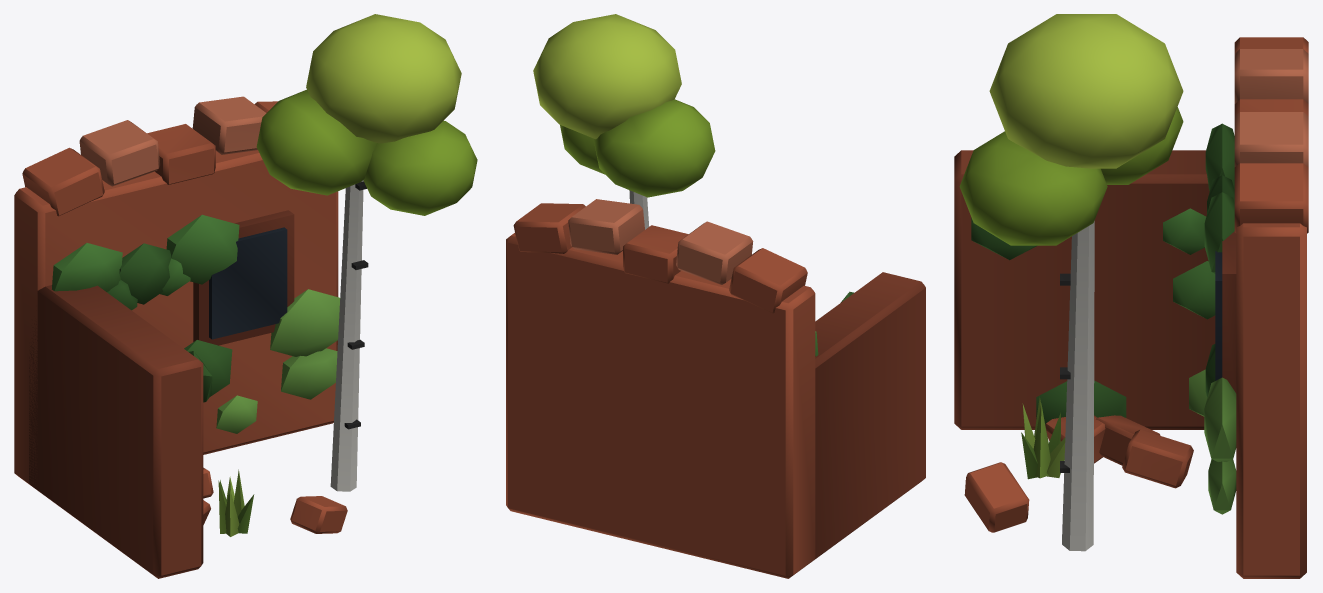
Rendered from p_tree_city_2.glb.
The picture shows the model from 3 angles, left to right: view 1: azimuth 30°, elevation 25°; view 2: azimuth 150°, elevation 25°; view 3: azimuth 270°, elevation 25°; orthographic projection. The views are drawn at different scales.
Visible parts, largest first — view 1: body; view 2: body; view 3: body.
Boxes of the visible parts, bbox=[...] form: body: bbox=[14, 14, 477, 578]; body: bbox=[506, 14, 925, 578]; body: bbox=[954, 14, 1308, 578].
Size of the model in its own units: 2.77 by 3.52 by 2.01.
